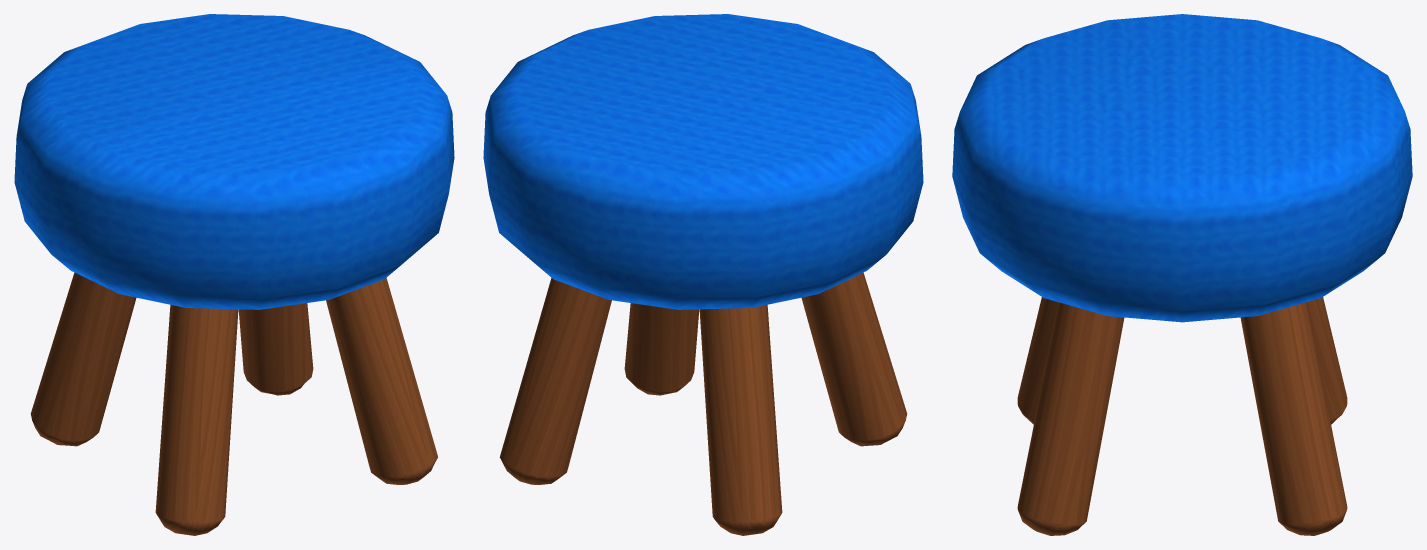
Rendered from 0-chair_blue.fbx.
3 views of the same model, side by side, from view 1: azimuth 30°, elevation 25°; view 2: azimuth 150°, elevation 25°; view 3: azimuth 270°, elevation 25° (orthographic). The views are drawn at different scales.
Visible parts, largest first — view 1: 0-chair_blue; view 2: 0-chair_blue; view 3: 0-chair_blue.
Boxes of the visible parts, x1,y1,x2,y2 form: 0-chair_blue: [14, 14, 454, 535]; 0-chair_blue: [483, 14, 923, 535]; 0-chair_blue: [952, 14, 1412, 535].
Size of the model in its own units: 97.96 by 89.63 by 97.96.
